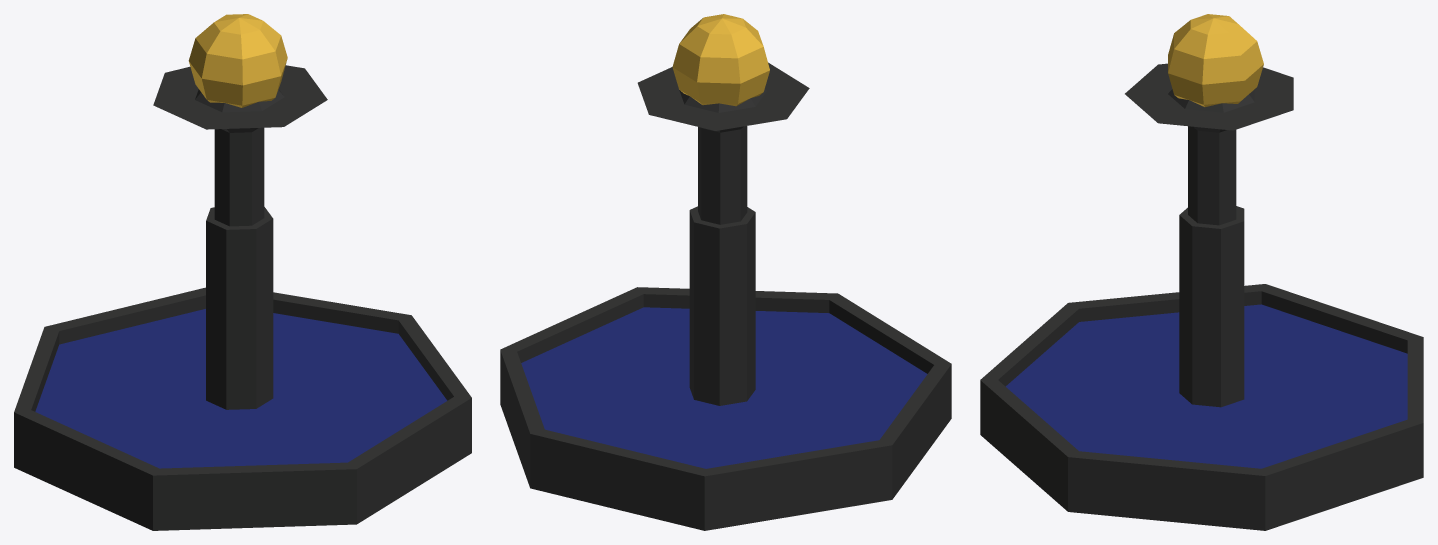
Rendered from Fountain.fbx.
The picture shows the model from 3 angles, left to right: view 1: azimuth 30°, elevation 25°; view 2: azimuth 150°, elevation 25°; view 3: azimuth 270°, elevation 25°; orthographic projection.
Parts seen in each view (by area): view 1: Sphere; view 2: Sphere; view 3: Sphere.
Part boxes in pixels (x1=…): Sphere: x1=14, y1=14, x2=471, y2=530; Sphere: x1=500, y1=14, x2=951, y2=530; Sphere: x1=980, y1=14, x2=1423, y2=530.
Bounding box in the file's own units: 901 × 911 × 879.
